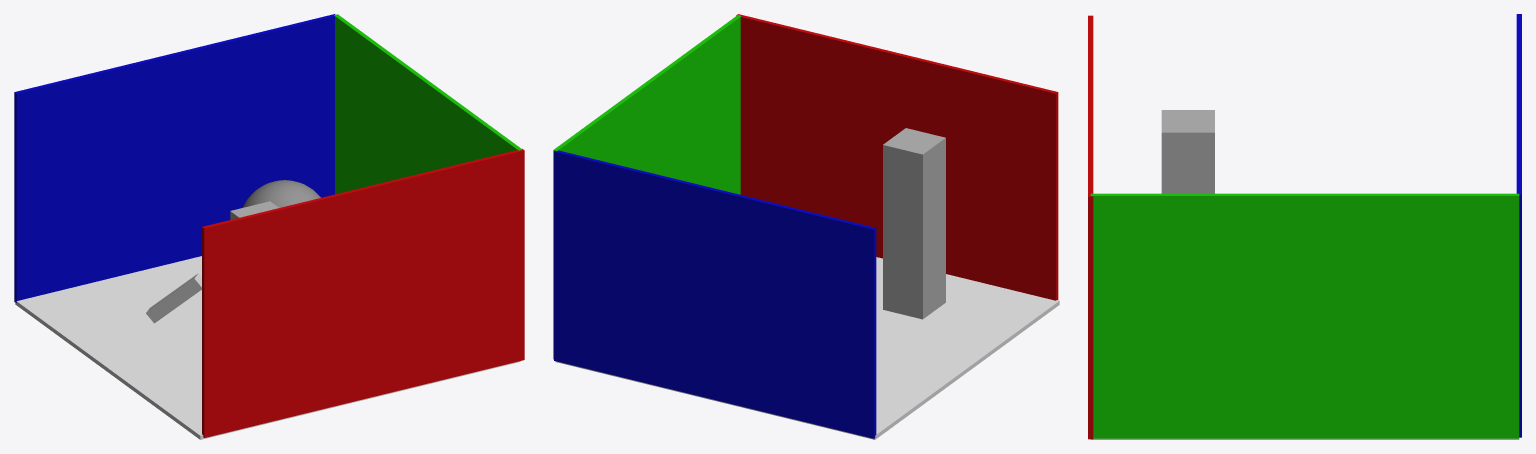
The model's file is testscene.fbx.
3 renders of one model, left to right at view 1: azimuth 30°, elevation 25°; view 2: azimuth 150°, elevation 25°; view 3: azimuth 270°, elevation 25°, orthographic. The views are drawn at different scales.
Parts seen in each view (by area): view 1: Cube.004, Cube.003, Cube, Cube.005, Sphere, Cube.001; view 2: Cube.003, Cube.004, Cube.005, Cube, Cube.002; view 3: Cube.005, Cube.002, Cube.004, Cube.003, Cube.
Part boxes in pixels (x1,y1,x2,y2): Cube.004: [202, 148, 524, 437]; Cube.003: [14, 14, 335, 302]; Cube: [15, 256, 520, 439]; Cube.005: [334, 14, 522, 194]; Sphere: [243, 180, 320, 207]; Cube.001: [146, 273, 201, 323]; Cube.003: [554, 150, 876, 438]; Cube.004: [736, 14, 1058, 300]; Cube.005: [553, 15, 741, 359]; Cube: [555, 257, 1059, 439]; Cube.002: [883, 128, 945, 319]; Cube.005: [1090, 193, 1519, 438]; Cube.002: [1161, 110, 1214, 193]; Cube.004: [1088, 15, 1093, 439]; Cube.003: [1516, 14, 1521, 437]; Cube: [1090, 438, 1519, 439].
Bounding box in the file's own units: 16.14 × 10.1 × 16.2.
